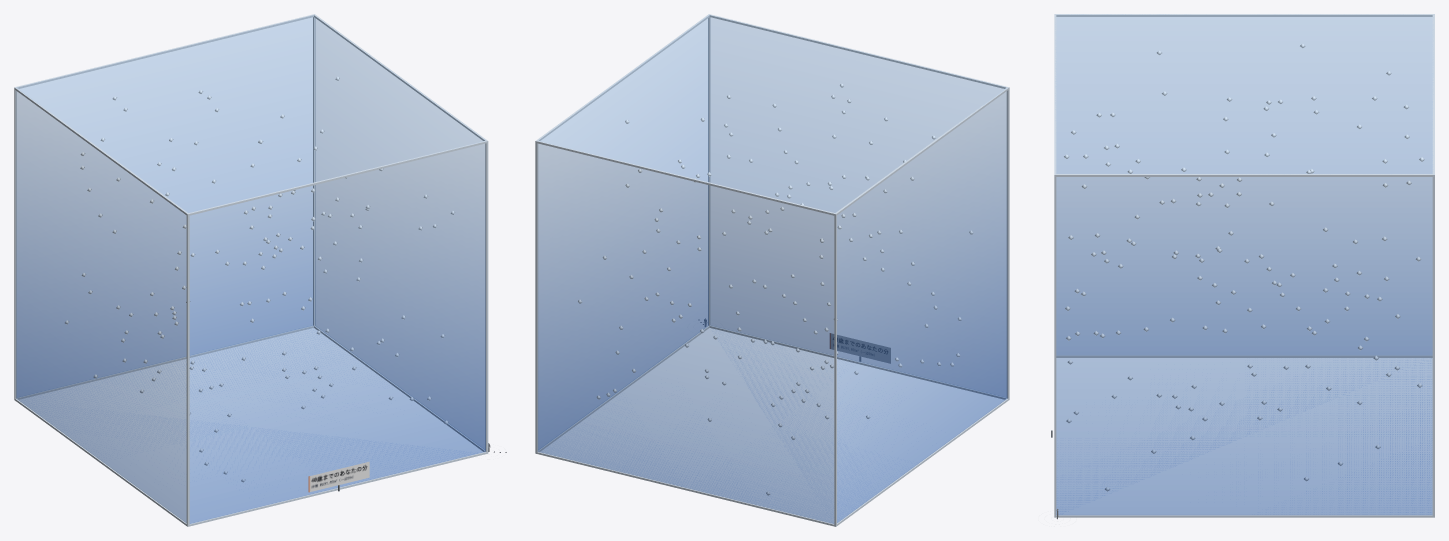
File: cube_life_40.glb
3 views of the same model, side by side, from view 1: azimuth 30°, elevation 25°; view 2: azimuth 150°, elevation 25°; view 3: azimuth 270°, elevation 25° (orthographic). The views are drawn at different scales.
Parts seen in each view (by area): view 1: co2, edge, dots, label; view 2: co2, edge, dots, label; view 3: co2, edge, dots.
Boxes of the visible parts, bbox=[...] form: co2: bbox=[16, 15, 485, 523]; edge: bbox=[14, 14, 488, 526]; dots: bbox=[65, 76, 454, 482]; label: bbox=[308, 461, 369, 492]; co2: bbox=[538, 15, 1007, 523]; edge: bbox=[535, 14, 1009, 526]; dots: bbox=[578, 83, 973, 495]; label: bbox=[830, 333, 890, 363]; co2: bbox=[1056, 15, 1433, 514]; edge: bbox=[1054, 14, 1434, 517]; dots: bbox=[1064, 43, 1424, 491].
Size of the model in its own units: 62.32 by 58.58 by 61.42.
8 materials, 3 textured.
